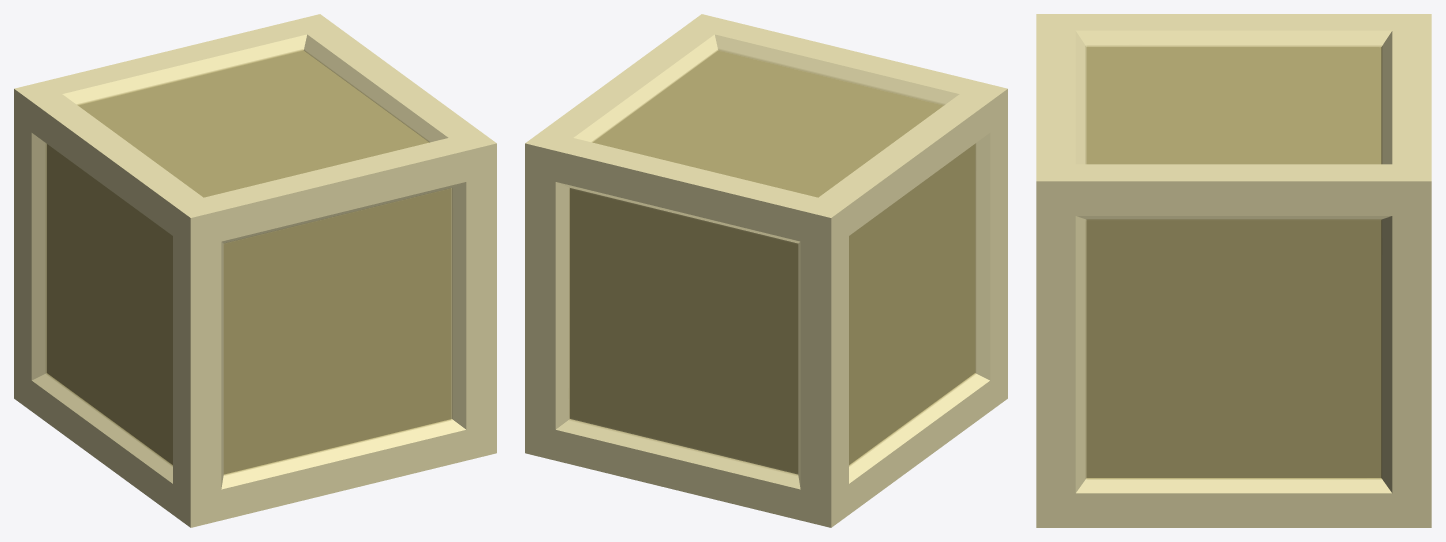
File: CajaNueva (con FBX).fbx
3 renders of one model, left to right at view 1: azimuth 30°, elevation 25°; view 2: azimuth 150°, elevation 25°; view 3: azimuth 270°, elevation 25°, orthographic. The views are drawn at different scales.
Parts seen in each view (by area): view 1: pCube3; view 2: pCube3; view 3: pCube3.
Part boxes in pixels (left/top/right/bottom): pCube3: left=14, top=14, right=496, bottom=527; pCube3: left=525, top=14, right=1007, bottom=527; pCube3: left=1036, top=14, right=1431, bottom=527.
Size of the model in its own units: 2 by 1.93 by 2.
1 material, 1 textured.
